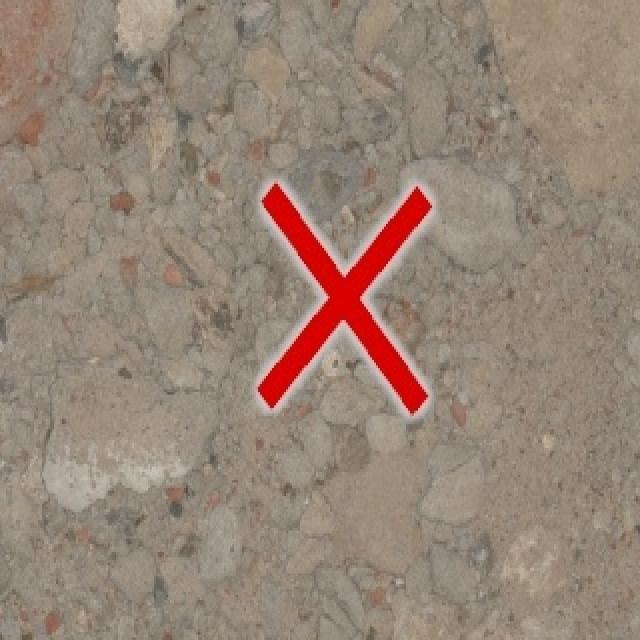x_marker: (257, 183, 431, 412)
